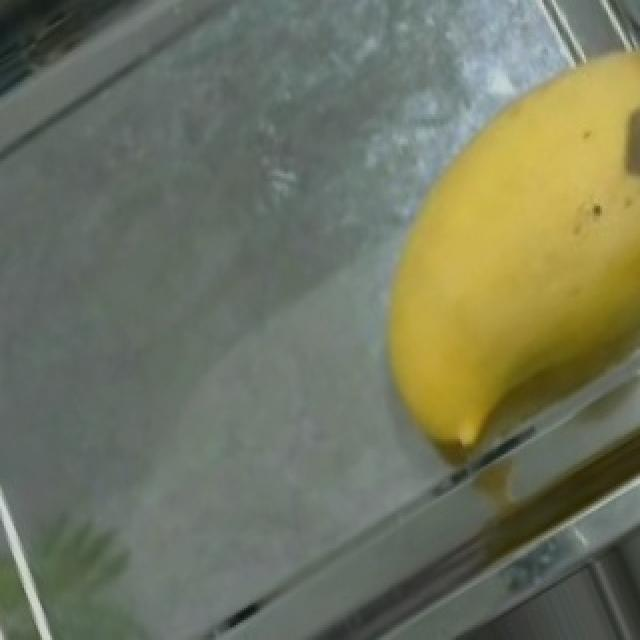fruit: (320, 5, 640, 432)
